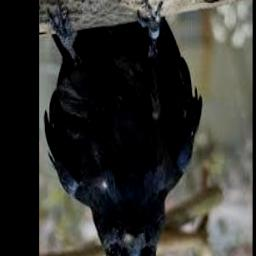Crow: (44, 0, 203, 256)
